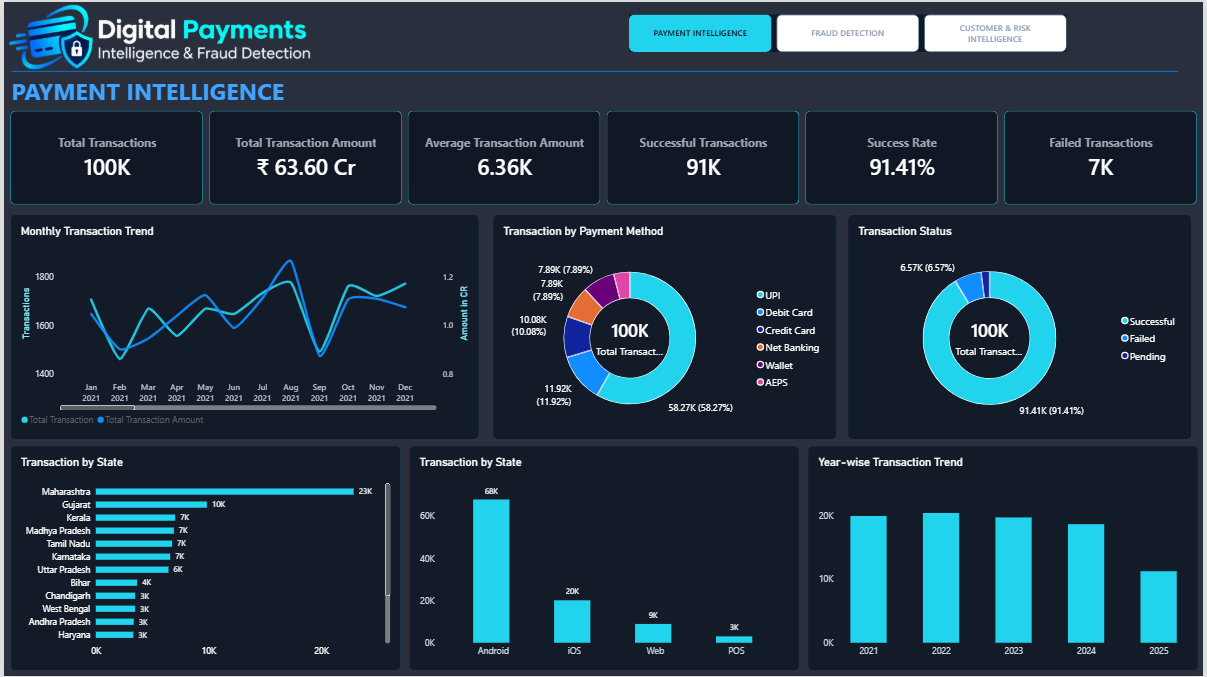

Layout of this report page (visuals, bound fields, positions):
{"tool":"powerbi","page":{"name":"PAYMENT INTELLIGENCE","canvas":[1920,1080],"ordinal":0},"visuals":[{"type":"cardVisual","fields":{"Data":["transactions_100k.Total Transaction","transactions_100k.Total Transaction Amount","transactions_100k.Average Transaction Amount","transactions_100k.Successful Transactions","transactions_100k.Transaction Success Rate","transactions_100k.Failed Transactions"]},"box":[10,173.9,1900,150],"z":0},{"type":"lineChart","title":"Monthly Transaction Trend","fields":{"Y":["transactions_100k.Total Transaction"],"Category":["transactions_100k.Month Year"],"Y2":["transactions_100k.Total Transaction Amount"]},"box":[10,340,750,360],"z":1000},{"type":"donutChart","title":"Transaction by Payment Method","fields":{"Category":["transactions_100k.Payment_Method"],"Y":["CountNonNull(transactions_100k.Transaction_ID)"]},"box":[781,340,550,360],"z":3000},{"type":"barChart","title":"Transaction by State","fields":{"Category":["transactions_100k.State"],"Y":["transactions_100k.Total Transaction"]},"box":[10,710,625,360],"z":4000},{"type":"columnChart","title":"Transaction by State","fields":{"Category":["transactions_100k.Device_Type"],"Y":["CountNonNull(transactions_100k.Transaction_ID)"]},"box":[648,710,625,360],"z":5000},{"type":"columnChart","title":"Year-wise Transaction Trend","fields":{"Category":["transactions_100k.Previous_Transaction_Time.Variation.Date Hierarchy.Year"],"Y":["CountNonNull(transactions_100k.Transaction_ID)"]},"box":[1285,710,625,360],"z":6000},{"type":"donutChart","title":"        Transaction Status","fields":{"Y":["CountNonNull(transactions_100k.Transaction_ID)"],"Category":["transactions_100k.Transaction_Status"]},"box":[1350,340.1,550,360],"z":7000},{"type":"shape","box":[11.6,87,1866.3,46.4],"z":8000},{"type":"textbox","box":[11.4,116.3,682.7,57.2],"z":9000},{"type":"pageNavigator","box":[1000,20,700,60],"z":10000},{"type":"image","box":[0,0,503.5,110.6],"z":10001}]}

Visuals, with their boxes in screenshot pixels (x1, y1, x2, y2), scaled from the page's 1920x1080 canvas onto the 1207x677 screenshot:
cardVisual - transactions_100k.Total Transaction x transactions_100k.Total Transaction Amount: left=6, top=109, right=1201, bottom=203
"Monthly Transaction Trend" lineChart: left=6, top=213, right=478, bottom=439
"Transaction by Payment Method" donutChart: left=491, top=213, right=837, bottom=439
"Transaction by State" barChart: left=6, top=445, right=399, bottom=671
"Transaction by State" columnChart: left=407, top=445, right=800, bottom=671
"Year-wise Transaction Trend" columnChart: left=808, top=445, right=1201, bottom=671
"        Transaction Status" donutChart: left=849, top=213, right=1194, bottom=439
shape: left=7, top=55, right=1181, bottom=84
textbox: left=7, top=73, right=436, bottom=109
pageNavigator: left=629, top=13, right=1069, bottom=50
image: left=0, top=0, right=317, bottom=69
